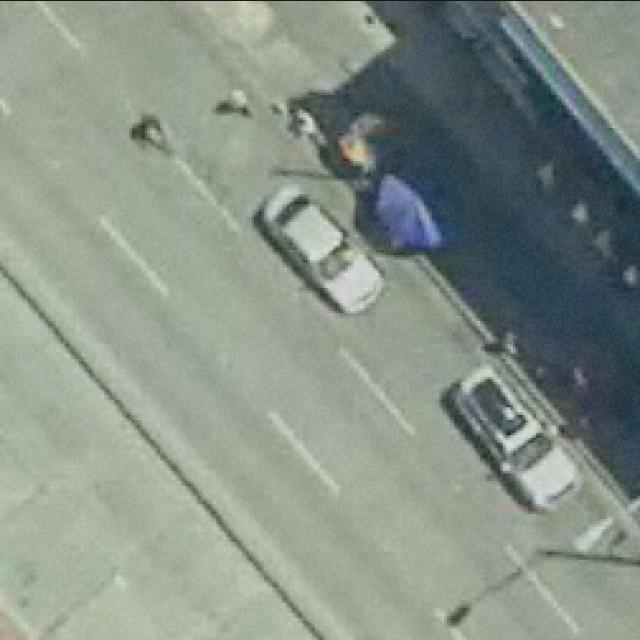vendedor_ambulante: (374, 156, 464, 252), (334, 107, 398, 173)
